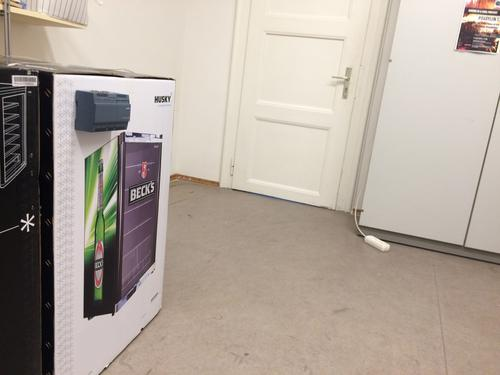iot2000: (74, 89, 133, 134)
